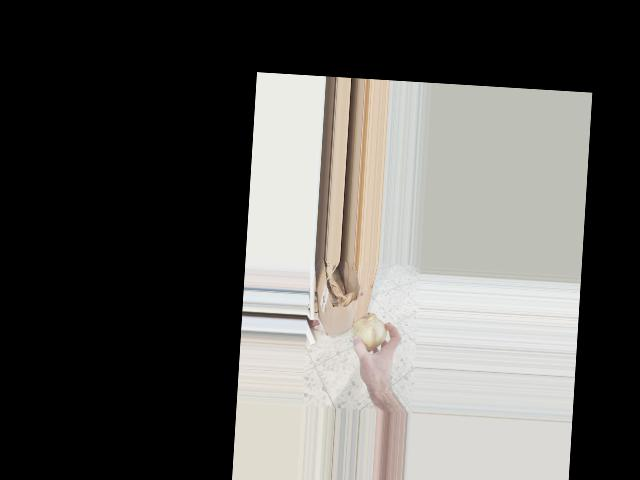onion: (351, 312, 387, 357)
